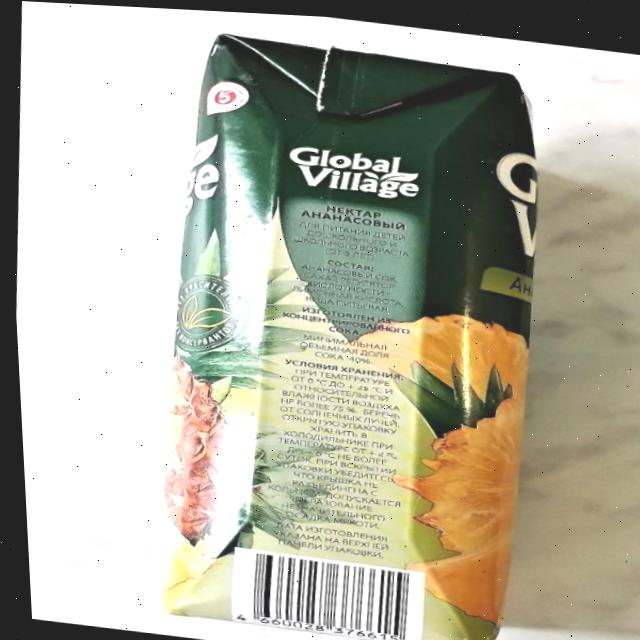Juice Global Village pineapple: (138, 22, 555, 640)
